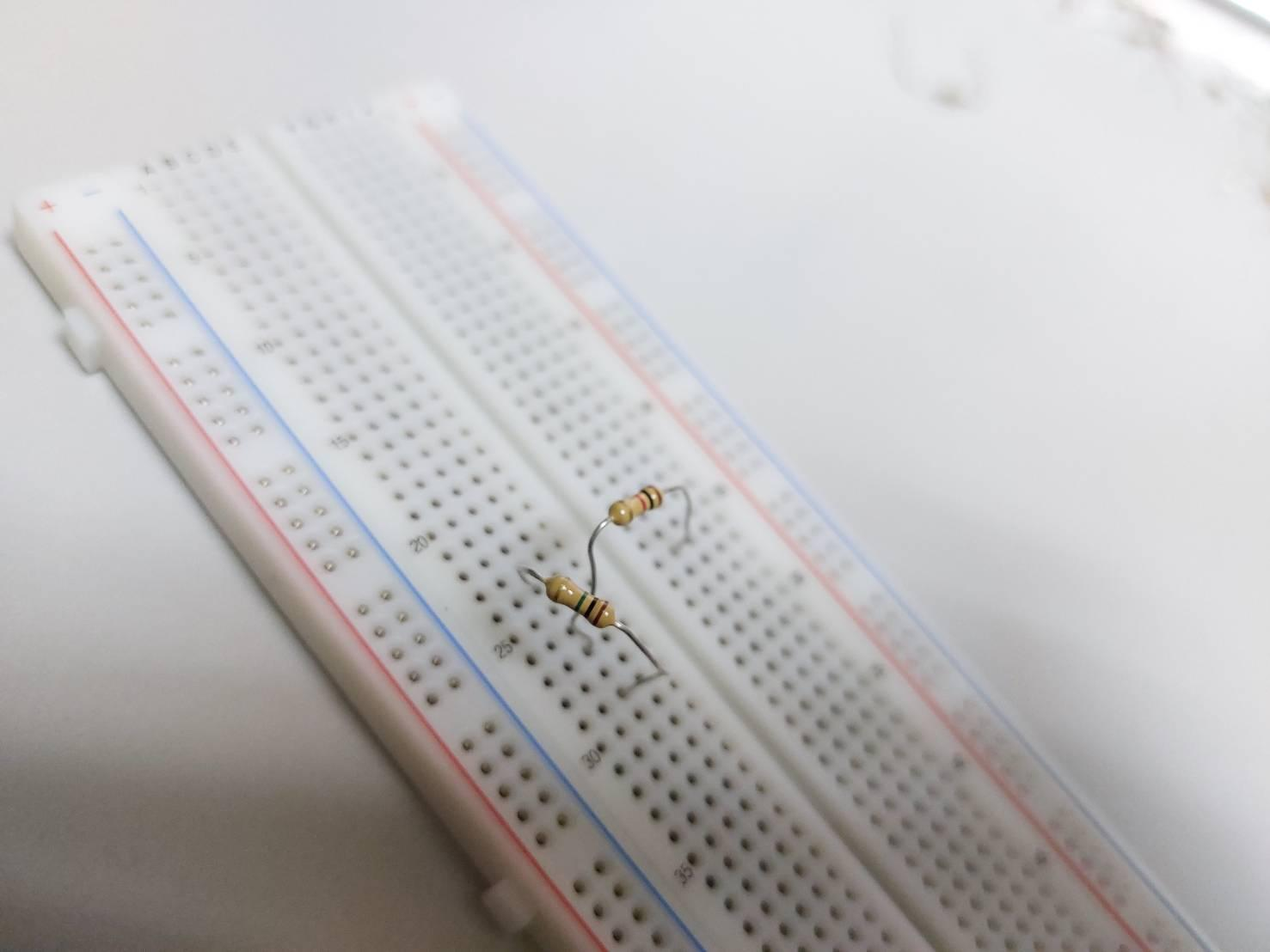resistor: (543, 573, 617, 627), (608, 482, 665, 524)
